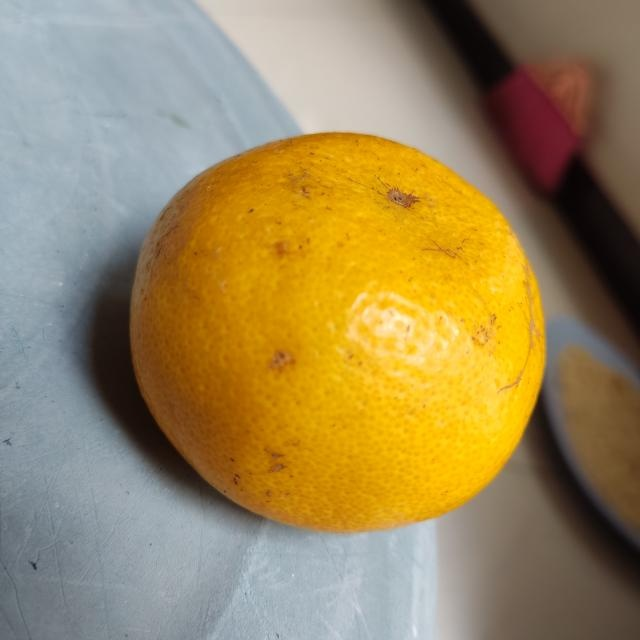agrume: (130, 129, 547, 539)
